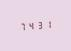four: (26, 20, 33, 31)
one: (42, 19, 49, 29)
seven: (18, 21, 25, 31)
three: (34, 20, 41, 30)
